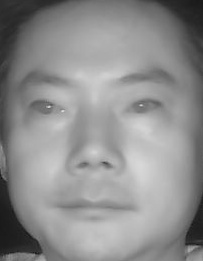eye: (119, 95, 168, 122), (29, 96, 73, 124)
mouth: (55, 183, 135, 228)
